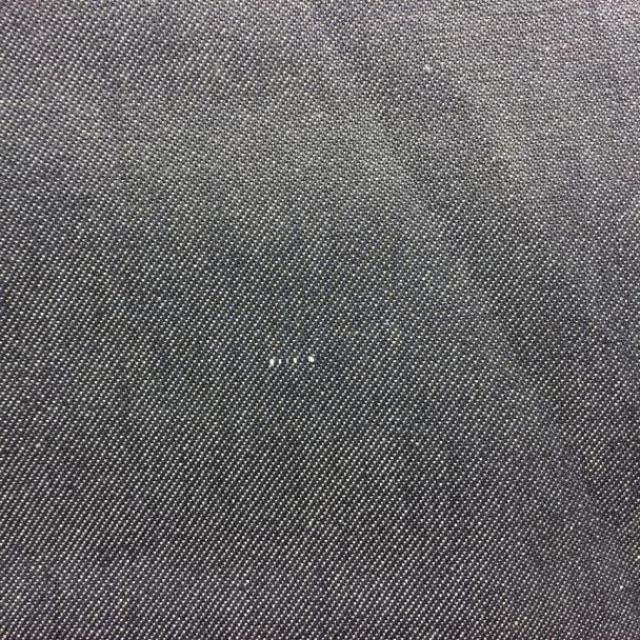Knot: (267, 354, 317, 369)
